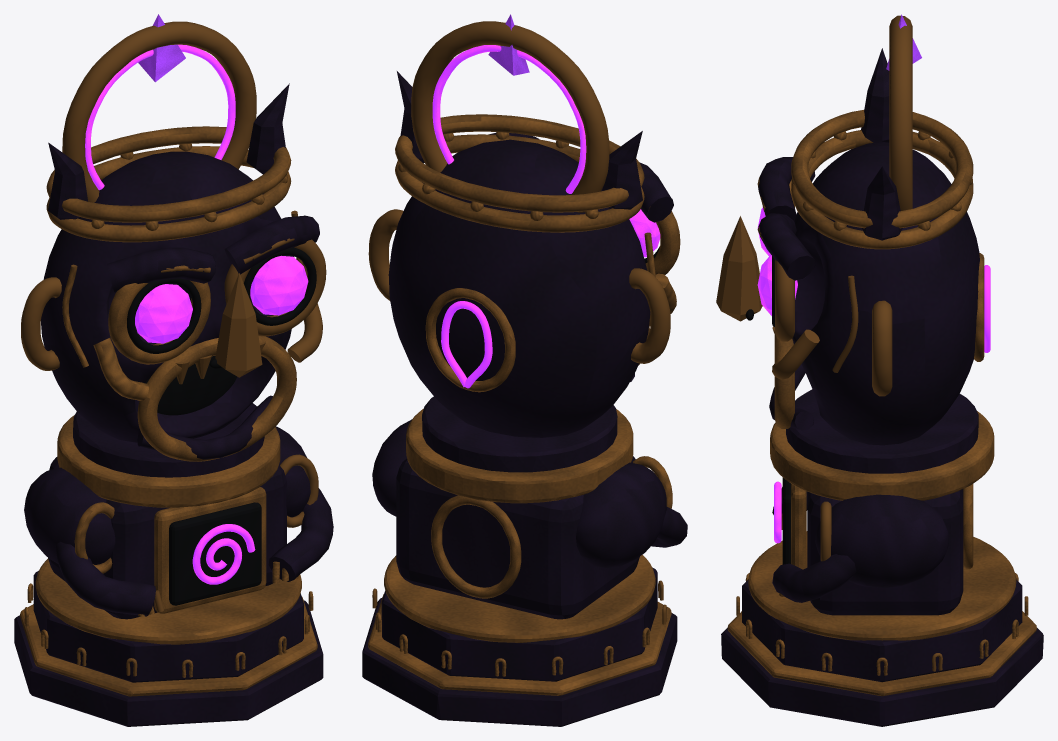
The model's file is Totem_Teleporte.glb.
3 views of the same model, side by side, from view 1: azimuth 30°, elevation 25°; view 2: azimuth 150°, elevation 25°; view 3: azimuth 270°, elevation 25° (orthographic). The views are drawn at different scales.
Visible parts, largest first — view 1: Totem_Teleporte; view 2: Totem_Teleporte; view 3: Totem_Teleporte.
Boxes of the visible parts, x1,y1,x2,y2 form: Totem_Teleporte: [14, 14, 333, 726]; Totem_Teleporte: [362, 14, 687, 726]; Totem_Teleporte: [716, 14, 1043, 726].
Size of the model in its own units: 2.18 by 4.57 by 2.1.
Materials: 5 (5 with a texture image).
